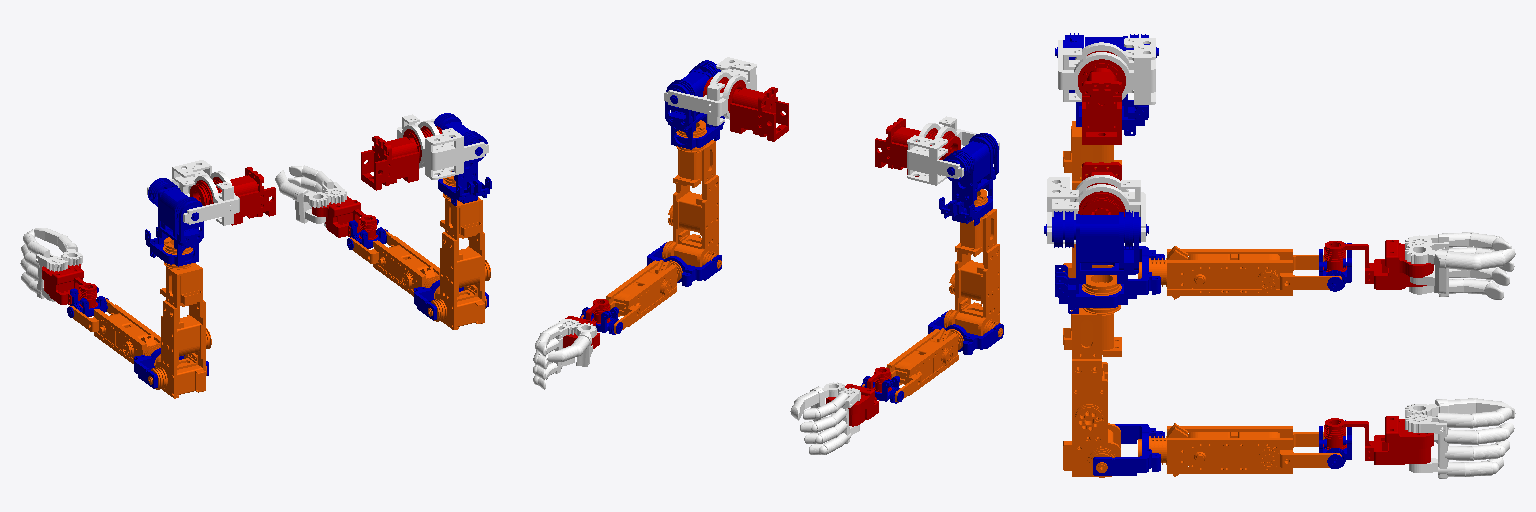
--- Facts derived from the render (not from the file) ---
3 views of the same robot in one strip: view 1: azimuth 30°, elevation 25°; view 2: azimuth 150°, elevation 25°; view 3: azimuth 270°, elevation 25° (orthographic).
Model robotarm with 25 links and 24 joints (18 revolute, 6 fixed), rooted at world, posed every joint at zero.
Visible links, largest first — view 1: left_link4, right_link4, left_link3, right_link1, right_link2, left_link6, right_link6, left_link2, left_link1, right_link3, left_hand2, right_link8 (+8 smaller); view 2: right_link4, left_link4, left_link3, left_link6, right_link6, right_link1, left_link2, right_link3, left_hand2, right_link2, left_link1, right_hand2 (+6 smaller); view 3: right_link4, right_link6, left_link6, right_link3, right_hand2, left_link2, left_link1, left_hand2, right_link8, right_link2, left_link8, left_hand1 (+8 smaller).
Link boxes in pixels (bbox=[...]): left_link4: bbox=[148, 237, 211, 398]; right_link4: bbox=[428, 171, 490, 329]; left_link3: bbox=[145, 178, 203, 266]; right_link1: bbox=[361, 126, 441, 190]; right_link2: bbox=[397, 114, 488, 179]; left_link6: bbox=[69, 298, 160, 365]; right_link6: bbox=[350, 229, 439, 298]; left_link2: bbox=[147, 160, 239, 225]; left_link1: bbox=[190, 167, 275, 225]; right_link3: bbox=[434, 113, 491, 205]; left_hand2: bbox=[20, 229, 67, 301]; right_link8: bbox=[312, 196, 377, 248]; right_link4: bbox=[662, 120, 721, 268]; left_link4: bbox=[944, 189, 1002, 336]; left_link3: bbox=[939, 133, 998, 225]; left_link6: bbox=[862, 328, 963, 402]; right_link6: bbox=[581, 260, 682, 333]; right_link1: bbox=[703, 77, 788, 141]; left_link2: bbox=[907, 116, 999, 185]; right_link3: bbox=[665, 60, 724, 149]; left_hand2: bbox=[800, 388, 860, 454]; right_link2: bbox=[664, 57, 756, 125]; left_link1: bbox=[875, 118, 960, 176]; right_hand2: bbox=[533, 319, 579, 389]; right_link4: bbox=[1063, 275, 1121, 477]; right_link6: bbox=[1138, 423, 1341, 476]; left_link6: bbox=[1138, 246, 1341, 299]; right_link3: bbox=[1044, 210, 1148, 313]; right_hand2: bbox=[1405, 408, 1514, 478]; left_link2: bbox=[1058, 38, 1155, 104]; left_link1: bbox=[1078, 51, 1125, 144]; left_hand2: bbox=[1405, 232, 1514, 299]; right_link8: bbox=[1323, 416, 1433, 464]; right_link2: bbox=[1047, 175, 1145, 243]; left_link8: bbox=[1323, 240, 1433, 289]; left_hand1: bbox=[1405, 243, 1515, 293].
Bounding box of the posed robot: 0.5205 × 0.4845 × 0.3075 m (x, y, z).
Meshes: 13 distinct files referenced, 20 mesh visuals loaded (13 Collada DAE).

URDF robot description (robotarm):
<?xml version="1.0" ?>
<!-- =================================================================================== -->
<!-- |    This document was autogenerated by xacro from robotarm_description.xacro     | -->
<!-- |    EDITING THIS FILE BY HAND IS NOT RECOMMENDED                                 | -->
<!-- =================================================================================== -->
<robot name="robotarm" xmlns:xacro="http://www.ros.org/wiki/xacro">
  <!-- Space btw top of beam and the each joint -->
  <!--xacro:property name="camera_name" value="rgbd" /-->
  <!-- Size of square 'camera' box -->
  <!--xacro:property name="frame_name" value="rgbd_depth" /-->
  <!-- Size of square 'camera' box -->
  <!-- ros_control plugin -->
  <gazebo>
    <plugin filename="libgazebo_ros_control.so" name="gazebo_ros_control">
      <robotNamespace>/bmirobot</robotNamespace>
      <robotSimType>gazebo_ros_control/DefaultRobotHWSim</robotSimType>
    </plugin>
  </gazebo>
  <!-- Link1 -->
  <gazebo reference="link1">
    <material>Gazebo/Orange</material>
  </gazebo>
  <!-- Link2 -->
  <gazebo reference="link2">
    <mu1>0.2</mu1>
    <mu2>0.2</mu2>
    <material>Gazebo/Black</material>
  </gazebo>
  <!-- Link3 -->
  <gazebo reference="link3">
    <mu1>0.2</mu1>
    <mu2>0.2</mu2>
    <material>Gazebo/Orange</material>
  </gazebo>
  <!-- Link4 -->
  <gazebo reference="link4">
    <mu1>0.2</mu1>
    <mu2>0.2</mu2>
    <material>Gazebo/Black</material>
  </gazebo>
  <!-- Link5 -->
  <gazebo reference="link5">
    <mu1>0.2</mu1>
    <mu2>0.2</mu2>
    <material>Gazebo/Orange</material>
  </gazebo>
  <!-- Link6 -->
  <gazebo reference="link6">
    <mu1>0.2</mu1>
    <mu2>0.2</mu2>
    <material>Gazebo/Black</material>
  </gazebo>
  <!-- Link7 -->
  <gazebo reference="link7">
    <mu1>0.2</mu1>
    <mu2>0.2</mu2>
    <material>Gazebo/Orange</material>
  </gazebo>
  <!-- camera -->
  <gazebo reference="camera_link">
    <sensor name="camera1" type="camera">
      <update_rate>5.0</update_rate>
      <camera name="head">
        <horizontal_fov>1.3962634</horizontal_fov>
        <image>
          <width>800</width>
          <height>800</height>
          <format>R8G8B8</format>
        </image>
        <clip>
          <near>0.02</near>
          <far>300</far>
        </clip>
        <noise>
          <type>gaussian</type>
          <!-- Noise is sampled independently per pixel on each frame.
               That pixel's noise value is added to each of its color
               channels, which at that point lie in the range [0,1]. -->
          <mean>0.0</mean>
          <stddev>0.007</stddev>
        </noise>
      </camera>
      <plugin filename="libgazebo_ros_camera.so" name="camera_controller">
        <alwaysOn>true</alwaysOn>
        <updateRate>0.0</updateRate>
        <cameraName>rrbot/camera1</cameraName>
        <imageTopicName>image_raw</imageTopicName>
        <cameraInfoTopicName>camera_info</cameraInfoTopicName>
        <frameName>camera_link</frameName>
        <hackBaseline>0.07</hackBaseline>
        <distortionK1>0.0</distortionK1>
        <distortionK2>0.0</distortionK2>
        <distortionK3>0.0</distortionK3>
        <distortionT1>0.0</distortionT1>
        <distortionT2>0.0</distortionT2>
      </plugin>
    </sensor>
  </gazebo>
  <gazebo reference="rgbd_link">
    <sensor name="rgbd1" type="depth">
      <always_on>1</always_on>
      <update_rate>20.0</update_rate>
      <visualize>false</visualize>
      <camera>
        <horizontal_fov>1.047</horizontal_fov>
        <image>
          <width>640</width>
          <height>480</height>
          <format>B8G8R8</format>
        </image>
        <depth_camera>

            </depth_camera>
        <clip>
          <near>0.1</near>
          <far>4</far>
        </clip>
      </camera>
      <plugin filename="libgazebo_ros_openni_kinect.so" name="rgbd_controller">
        <baseline>0.2</baseline>
        <alwaysOn>true</alwaysOn>
        <updateRate>20.0</updateRate>
        <cameraName>camera</cameraName>
        <imageTopicName>/camera/rgb/image_raw</imageTopicName>
        <cameraInfoTopicName>/camera/rgb/camera_info</cameraInfoTopicName>
        <depthImageTopicName>/camera/depth/image_raw</depthImageTopicName>
        <depthImageInfoTopicName>/camera/depth/camera_info</depthImageInfoTopicName>
        <pointCloudTopicName>/camera/depth/points</pointCloudTopicName>
        <frameName>camera_depth_optical_frame</frameName>
        <pointCloudCutoff>0.5</pointCloudCutoff>
        <distortionK1>0</distortionK1>
        <distortionK2>0</distortionK2>
        <distortionK3>0</distortionK3>
        <distortionT1>0</distortionT1>
        <distortionT2>0</distortionT2>
        <CxPrime>0</CxPrime>
        <Cx>0</Cx>
        <Cy>0</Cy>
        <focalLength>0</focalLength>
        <hackBaseline>0</hackBaseline>
      </plugin>
    </sensor>
  </gazebo>
  <gazebo>
    <plugin filename="libgazebo_grasp_fix.so" name="gazebo_grasp_fix">
      <arm>
        <arm_name>bmirobot</arm_name>
        <palm_link>link8</palm_link>
        <gripper_link>hand_1</gripper_link>
        <gripper_link>hand_4</gripper_link>
      </arm>
      <forces_angle_tolerance>90</forces_angle_tolerance>
      <update_rate>4</update_rate>
      <grip_count_threshold>2</grip_count_threshold>
      <max_grip_count>4</max_grip_count>
      <release_tolerance>0.003</release_tolerance>
      <disable_collisions_on_attach>true</disable_collisions_on_attach>
      <contact_topic>__default_topic__</contact_topic>
    </plugin>
  </gazebo>
  <material name="black">
    <color rgba="0.0 0.0 0.0 1.0"/>
  </material>
  <material name="blue">
    <color rgba="0.0 0.0 0.8 1.0"/>
  </material>
  <material name="green">
    <color rgba="0.0 0.8 0.0 1.0"/>
  </material>
  <material name="grey">
    <color rgba="0.2 0.2 0.2 1.0"/>
  </material>
  <material name="orange">
    <color rgba="1.0 0.423529411765 0.0392156862745 1.0"/>
  </material>
  <material name="brown">
    <color rgba="0.870588235294 0.811764705882 0.764705882353 1.0"/>
  </material>
  <material name="red">
    <color rgba="0.8 0.0 0.0 1.0"/>
  </material>
  <material name="white">
    <color rgba="1.0 1.0 1.0 1.0"/>
  </material>
  <!-- Used for fixing robot to Gazebo 'base_link' -->
  <link name="world"/>
  <joint name="fixed" type="fixed">
    <parent link="world"/>
    <child link="odom_combined"/>
  </joint>
  <link name="odom_combined"/>
  <joint name="virtual_joint" type="fixed">
    <parent link="odom_combined"/>
    <child link="base_link"/>
    <origin rpy="0 0 0" xyz="0 0 0.45"/>
  </joint>
  <link name="base_link"/>
  <joint name="rightvirtual_joint" type="fixed">
    <parent link="base_link"/>
    <child link="right_link1"/>
    <origin rpy="0 0 0" xyz="0.22 0 0"/>
  </joint>
  <joint name="leftvirtual_joint" type="fixed">
    <parent link="base_link"/>
    <child link="left_link1"/>
    <origin rpy="0 0 3.14159265359" xyz="0.03 0 0"/>
  </joint>
  <link name="right_link1">
    <visual>
      <geometry>
        <mesh filename="package://bmirobot_description/modle/stl_V5/baselink.dae"/>
      </geometry>
      <origin rpy="0 0 0" xyz="0 0 0"/>
      <material name="red"/>
    </visual>
    <collision>
      <geometry>
        <mesh filename="package://bmirobot_description/modle/stl_V5/baselink.dae"/>
      </geometry>
      <origin rpy="0 0 0" xyz="0 0 0"/>
    </collision>
    <inertial>
      <origin rpy="0 0 0" xyz="0 0 1"/>
      <mass value="1"/>
      <inertia ixx="1.0" ixy="0.0" ixz="0.0" iyy="1.0" iyz="0.0" izz="1.0"/>
    </inertial>
  </link>
  <link name="right_link2">
    <visual>
      <geometry>
        <mesh filename="package://bmirobot_description/modle/stl_V5/link1.dae"/>
      </geometry>
      <origin rpy="0 0 0" xyz="0 0 0"/>
      <material name="white"/>
    </visual>
    <collision>
      <geometry>
        <mesh filename="package://bmirobot_description/modle/stl_V5/link1.dae"/>
      </geometry>
      <origin rpy="0 0 0" xyz="0 0 0"/>
    </collision>
    <inertial>
      <origin rpy="0 0 0" xyz="0 0 1"/>
      <mass value="1"/>
      <inertia ixx="1.0" ixy="0.0" ixz="0.0" iyy="1.0" iyz="0.0" izz="1.0"/>
    </inertial>
  </link>
  <link name="right_link3">
    <visual>
      <geometry>
        <mesh filename="package://bmirobot_description/modle/stl_V5/link2.dae"/>
      </geometry>
      <origin rpy="0 0 0" xyz="0 0 0"/>
      <material name="blue"/>
    </visual>
    <collision>
      <geometry>
        <mesh filename="package://bmirobot_description/modle/stl_V5/link2.dae"/>
      </geometry>
      <origin rpy="0 0 0" xyz="0 0 0"/>
    </collision>
    <inertial>
      <origin rpy="0 0 0" xyz="0 0 1"/>
      <mass value="1"/>
      <inertia ixx="1.0" ixy="0.0" ixz="0.0" iyy="1.0" iyz="0.0" izz="1.0"/>
    </inertial>
  </link>
  <link name="right_link4">
    <visual>
      <geometry>
        <mesh filename="package://bmirobot_description/modle/stl_V5/link3.dae"/>
      </geometry>
      <origin rpy="0 0 0" xyz="0 0 0"/>
      <material name="orange"/>
    </visual>
    <collision>
      <geometry>
        <mesh filename="package://bmirobot_description/modle/stl_V5/link3.dae"/>
      </geometry>
      <origin rpy="0 0 0" xyz="0 0 0"/>
    </collision>
    <inertial>
      <origin rpy="0 0 0" xyz="0 0 1"/>
      <mass value="1"/>
      <inertia ixx="1.0" ixy="0.0" ixz="0.0" iyy="1.0" iyz="0.0" izz="1.0"/>
    </inertial>
  </link>
  <link name="right_link5">
    <visual>
      <geometry>
        <mesh filename="package://bmirobot_description/modle/stl_V5/link4.dae"/>
      </geometry>
      <origin rpy="0 0 0" xyz="0 0 0"/>
      <material name="blue"/>
    </visual>
    <collision>
      <geometry>
        <mesh filename="package://bmirobot_description/modle/stl_V5/link4.dae"/>
      </geometry>
      <origin rpy="0 0 0" xyz="0 0 0"/>
    </collision>
    <inertial>
      <origin rpy="0 0 0" xyz="0 0 1"/>
      <mass value="1"/>
      <inertia ixx="1.0" ixy="0.0" ixz="0.0" iyy="1.0" iyz="0.0" izz="1.0"/>
    </inertial>
  </link>
  <link name="right_link6">
    <visual>
      <geometry>
        <mesh filename="package://bmirobot_description/modle/stl_V5/link5.dae"/>
      </geometry>
      <origin rpy="0 0 0" xyz="0 0 0"/>
      <material name="orange"/>
    </visual>
    <collision>
      <geometry>
        <mesh filename="package://bmirobot_description/modle/stl_V5/link5.dae"/>
      </geometry>
      <origin rpy="0 0 0" xyz="0 0 0"/>
    </collision>
    <inertial>
      <origin rpy="0 0 0" xyz="0 0 1"/>
      <mass value="1"/>
      <inertia ixx="1.0" ixy="0.0" ixz="0.0" iyy="1.0" iyz="0.0" izz="1.0"/>
    </inertial>
  </link>
  <link name="right_link7">
    <visual>
      <geometry>
        <mesh filename="package://bmirobot_description/modle/stl_V5/link6.dae"/>
      </geometry>
      <origin rpy="0 0 0" xyz="0 0 0"/>
      <material name="blue"/>
    </visual>
    <collision>
      <geometry>
        <mesh filename="package://bmirobot_description/modle/stl_V5/link6.dae"/>
      </geometry>
      <origin rpy="0 0 0" xyz="0 0 0"/>
    </collision>
    <inertial>
      <origin rpy="0 0 0" xyz="0 0 1"/>
      <mass value="1"/>
      <inertia ixx="1.0" ixy="0.0" ixz="0.0" iyy="1.0" iyz="0.0" izz="1.0"/>
    </inertial>
  </link>
  <link name="right_link8">
    <visual>
      <geometry>
        <mesh filename="package://bmirobot_description/modle/stl_V5/link7.dae"/>
      </geometry>
      <origin rpy="0 0 0" xyz="0 0 0"/>
      <material name="red"/>
    </visual>
    <collision>
      <geometry>
        <mesh filename="package://bmirobot_description/modle/stl_V5/link7.dae"/>
      </geometry>
      <origin rpy="0 0 0" xyz="0 0 0"/>
    </collision>
    <inertial>
      <origin rpy="0 0 0" xyz="0 0 1"/>
      <mass value="1"/>
      <inertia ixx="1.0" ixy="0.0" ixz="0.0" iyy="1.0" iyz="0.0" izz="1.0"/>
    </inertial>
  </link>
  <link name="right_hand1">
    <contact>
      <lateral_friction value="10.0"/>
      <rolling_friction value="0.0"/>
      <inertia_scaling value="3.0"/>
      <contact_cfm value="0.0"/>
      <contact_erp value="1.0"/>
    </contact>
    <visual>
      <geometry>
        <mesh filename="package://bmirobot_description/modle/stl_V5/hand-1.dae"/>
      </geometry>
      <origin rpy="0 0 0" xyz="0 0 0"/>
      <material name="white"/>
    </visual>
    <collision>
      <geometry>
        <mesh filename="package://bmirobot_description/modle/stl_V5/hand-1.dae"/>
      </geometry>
      <origin rpy="0 0 0" xyz="0 0 0"/>
    </collision>
    <inertial>
      <origin rpy="0 0 0" xyz="0 0 1"/>
      <mass value="1"/>
      <inertia ixx="1.0" ixy="0.0" ixz="0.0" iyy="1.0" iyz="0.0" izz="1.0"/>
    </inertial>
  </link>
  <link name="right_hand2">
    <contact>
      <lateral_friction value="1.0"/>
      <rolling_friction value="0.0"/>
      <inertia_scaling value="3.0"/>
      <contact_cfm value="0.0"/>
      <contact_erp value="1.0"/>
    </contact>
    <visual>
      <geometry>
        <mesh filename="package://bmirobot_description/modle/stl_V5/hand-2.dae"/>
      </geometry>
      <origin rpy="0 0 0" xyz="0 0 0"/>
      <material name="white"/>
    </visual>
    <collision>
      <geometry>
        <mesh filename="package://bmirobot_description/modle/stl_V5/hand-2.dae"/>
      </geometry>
      <origin rpy="0 0 0" xyz="0 0 0"/>
    </collision>
    <inertial>
      <origin rpy="0 0 0" xyz="0 0 1"/>
      <mass value="1"/>
      <inertia ixx="1.0" ixy="0.0" ixz="0.0" iyy="1.0" iyz="0.0" izz="1.0"/>
    </inertial>
  </link>
  <joint name="right_joint1" type="revolute">
    <limit effort="1000.0" lower="-1.57079632679" upper="3.14159265359" velocity="9.42477796077"/>
    <origin rpy="0 0 0" xyz="0.081 0 0"/>
    <axis xyz="1 0 0"/>
    <parent link="right_link1"/>
    <child link="right_link2"/>
    <dynamics damping="0.7"/>
  </joint>
  <joint name="right_joint2" type="revolute">
    <limit effort="1000.0" lower="-3.14159265359" upper="0.174532925199" velocity="9.42477796077"/>
    <origin rpy="0 1.57079632679 0" xyz="0.040 0 0"/>
    <axis xyz="0 1 0"/>
    <parent link="right_link2"/>
    <child link="right_link3"/>
    <dynamics damping="0.7"/>
  </joint>
  <joint name="right_joint3" type="revolute">
    <limit effort="1000.0" lower="-1.57079632679" upper="1.57079632679" velocity="9.42477796077"/>
    <origin rpy="-1.57079632679 0 0" xyz="0.0555 0 0"/>
    <axis xyz="1 0 0"/>
    <parent link="right_link3"/>
    <child link="right_link4"/>
    <dynamics damping="0.7"/>
  </joint>
  <joint name="right_joint4" type="revolute">
    <limit effort="1000.0" lower="-0.872664625997" upper="2.09439510239" velocity="9.42477796077"/>
    <origin rpy="0 -1.57079632679 0" xyz="0.1945 0 0"/>
    <axis xyz="0 1 0"/>
    <parent link="right_link4"/>
    <child link="right_link5"/>
    <dynamics damping="0.7"/>
  </joint>
  <joint name="right_joint5" type="revolute">
    <limit effort="1000.0" lower="-3.14159265359" upper="1.74532925199" velocity="9.42477796077"/>
    <origin rpy="1.57079632679 0 0" xyz="0.037 0 0.000"/>
    <axis xyz="1 0 0"/>
    <parent link="right_link5"/>
    <child link="right_link6"/>
    <dynamics damping="0.7"/>
  </joint>
  <joint name="right_joint6" type="revolute">
    <limit effort="1000.0" lower="-1.2217304764" upper="1.57079632679" velocity="9.42477796077"/>
    <origin rpy="-1.57079632679 0 0" xyz="0.203 0 0"/>
    <axis xyz="0 1 0"/>
    <parent link="right_link6"/>
    <child link="right_link7"/>
    <dynamics damping="0.7"/>
  </joint>
  <joint name="right_joint7" type="revolute">
    <limit effort="1000.0" lower="-1.57079632679" upper="1.57079632679" velocity="9.42477796077"/>
    <origin rpy="0.0 0 0" xyz="0.0 0 0"/>
    <axis xyz="0 0 1"/>
    <parent link="right_link7"/>
    <child link="right_link8"/>
    <dynamics damping="0.7"/>
  </joint>
  <joint name="right_hand_joint1" type="revolute">
    <limit effort="1000.0" lower="-1.57079632679" upper="1.57079632679" velocity="9.42477796077"/>
    <origin rpy="0 0 0" xyz="0.0865 0.0265 0.0240"/>
    <axis xyz="0 0 1"/>
    <parent link="right_link8"/>
    <child link="right_hand1"/>
    <dynamics damping="0.7"/>
  </joint>
  <joint name="right_hand_joint2" type="revolute">
    <limit effort="1000.0" lower="-1.57079632679" upper="1.57079632679" velocity="9.42477796077"/>
    <origin rpy="0 0 0" xyz="0.0865 0 0.024"/>
    <axis xyz="0 0 1"/>
    <parent link="right_link8"/>
    <child link="right_hand2"/>
    <dynamics damping="0.7"/>
  </joint>
  <!-- Grasping frame -->
  <link name="rightgrasping_frame"/>
  <joint name="rightgrasping_frame_joint" type="fixed">
    <parent link="right_link8"/>
    <child link="rightgrasping_frame"/>
    <origin rpy="0 0 0" xyz="0.1565 0.0265 0.0240"/>
  </joint>
  <!-- ///////////////////   Transmissions for ROS Control /////////////////// -->
  <transmission name="right_tran1">
    <type>transmission_interface/SimpleTransmission</type>
    <joint name="right_joint1">
      <hardwareInterface>hardware_interface/PositionJointInterface</hardwareInterface>
    </joint>
    <actuator name="right_motor1">
      <hardwareInterface>hardware_interface/PositionJointInterface</hardwareInterface>
      <mechanicalReduction>1</mechanicalReduction>
    </actuator>
  </transmission>
  <transmission name="right_tran2">
    <type>transmission_interface/SimpleTransmission</type>
    <joint name="right_joint2">
      <hardwareInterface>hardware_interface/PositionJointInterface</hardwareInterface>
    </joint>
    <actuator name="right_motor2">
      <hardwareInterface>hardware_interface/PositionJointInterface</hardwareInterface>
      <mechanicalReduction>1</mechanicalReduction>
    </actuator>
  </transmission>
  <transmission name="right_tran3">
    <type>transmission_interface/SimpleTransmission</type>
    <joint name="right_joint3">
      <hardwareInterface>hardware_interface/PositionJointInterface</hardwareInterface>
    </joint>
    <actuator name="right_motor3">
      <hardwareInterface>hardware_interface/PositionJointInterface</hardwareInterface>
      <mechanicalReduction>1</mechanicalReduction>
    </actuator>
  </transmission>
  <transmission name="right_tran4">
    <type>transmission_interface/SimpleTransmission</type>
    <joint name="right_joint4">
      <hardwareInterface>hardware_interface/PositionJointInterface</hardwareInterface>
    </joint>
    <actuator name="right_motor4">
      <hardwareInterface>hardware_interface/PositionJointInterface</hardwareInterface>
      <mechanicalReduction>1</mechanicalReduction>
    </actuator>
  </transmission>
  <transmission name="right_tran5">
    <type>transmission_interface/SimpleTransmission</type>
    <joint name="right_joint5">
      <hardwareInterface>hardware_interface/PositionJointInterface</hardwareInterface>
    </joint>
    <actuator name="right_motor5">
      <hardwareInterface>hardware_interface/PositionJointInterface</hardwareInterface>
      <mechanicalReduction>1</mechanicalReduction>
    </actuator>
  </transmission>
  <transmission name="right_tran6">
    <type>transmission_interface/SimpleTransmission</type>
    <joint name="right_joint6">
      <hardwareInterface>hardware_interface/PositionJointInterface</hardwareInterface>
    </joint>
    <actuator name="right_motor6">
      <hardwareInterface>hardware_interface/PositionJointInterface</hardwareInterface>
      <mechanicalReduction>1</mechanicalReduction>
    </actuator>
  </transmission>
  <transmission name="right_tran7">
    <type>transmission_interface/SimpleTransmission</type>
    <joint name="right_joint7">
      <hardwareInterface>hardware_interface/PositionJointInterface</hardwareInterface>
    </joint>
    <actuator name="right_motor7">
      <hardwareInterface>hardware_interface/PositionJointInterface</hardwareInterface>
      <mechanicalReduction>1</mechanicalReduction>
    </actuator>
  </transmission>
  <transmission name="right_tran8">
    <type>transmission_interface/SimpleTransmission</type>
    <joint name="right_hand_joint1">
      <hardwareInterface>hardware_interface/PositionJointInterface</hardwareInterface>
    </joint>
    <actuator name="right_motor8">
      <hardwareInterface>hardware_interface/PositionJointInterface</hardwareInterface>
      <mechanicalReduction>1</mechanicalReduction>
    </actuator>
  </transmission>
  <transmission name="right_tran9">
    <type>transmission_interface/SimpleTransmission</type>
    <joint name="right_hand_joint2">
      <hardwareInterface>hardware_interface/PositionJointInterface</hardwareInterface>
    </joint>
    <actuator name="right_motor9">
      <hardwareInterface>hardware_interface/PositionJointInterface</hardwareInterface>
      <mechanicalReduction>1</mechanicalReduction>
    </actuator>
  </transmission>
  <link name="left_link1">
    <visual>
      <geometry>
        <mesh filename="package://bmirobot_description/modle/stl_V5/baselink.dae"/>
      </geometry>
      <origin rpy="0 0 0" xyz="0 0 0"/>
      <material name="red"/>
    </visual>
    <collision>
      <geometry>
        <mesh filename="package://bmirobot_description/modle/stl_V5/baselink.dae"/>
      </geometry>
      <origin rpy="0 0 0" xyz="0 0 0"/>
    </collision>
    <inertial>
      <origin rpy="0 0 0" xyz="0 0 1"/>
      <mass value="1"/>
      <inertia ixx="1.0" ixy="0.0" ixz="0.0" iyy="1.0" iyz="0.0" izz="1.0"/>
    </inertial>
  </link>
  <link name="left_link2">
    <visual>
      <geometry>
        <mesh filename="package://bmirobot_description/modle/stl_V5/link1.dae"/>
      </geometry>
      <origin rpy="0 0 0" xyz="0 0 0"/>
      <material name="white"/>
    </visual>
    <collision>
      <geometry>
        <mesh filename="package://bmirobot_description/modle/stl_V5/link1.dae"/>
      </geometry>
      <origin rpy="0 0 0" xyz="0 0 0"/>
    </collision>
    <inertial>
      <origin rpy="0 0 0" xyz="0 0 1"/>
      <mass value="1"/>
      <inertia ixx="1.0" ixy="0.0" ixz="0.0" iyy="1.0" iyz="0.0" izz="1.0"/>
    </inertial>
  </link>
  <link name="left_link3">
    <visual>
      <geometry>
        <mesh filename="package://bmirobot_description/modle/stl_V5/link2.dae"/>
      </geometry>
      <origin rpy="0 0 0" xyz="0 0 0"/>
      <material name="blue"/>
    </visual>
    <collision>
      <geometry>
        <mesh filename="package://bmirobot_description/modle/stl_V5/link2.dae"/>
      </geometry>
      <origin rpy="0 0 0" xyz="0 0 0"/>
    </collision>
    <inertial>
      <origin rpy="0 0 0" xyz="0 0 1"/>
      <mass value="1"/>
      <inertia ixx="1.0" ixy="0.0" ixz="0.0" iyy="1.0" iyz="0.0" izz="1.0"/>
    </inertial>
  </link>
  <link name="left_link4">
    <visual>
      <geometry>
        <mesh filename="package://bmirobot_description/modle/stl_V5/link3.dae"/>
      </geometry>
      <origin rpy="0 0 0" xyz="0 0 0"/>
      <material name="orange"/>
    </visual>
    <collision>
      <geometry>
        <mesh filename="package://bmirobot_description/modle/stl_V5/link3.dae"/>
      </geometry>
      <origin rpy="0 0 0" xyz="0 0 0"/>
    </collision>
    <inertial>
      <origin rpy="0 0 0" xyz="0 0 1"/>
      <mass value="1"/>
      <inertia ixx="1.0" ixy="0.0" ixz="0.0" iyy="1.0" iyz="0.0" izz="1.0"/>
    </inertial>
  </link>
  <link name="left_link5">
    <visual>
      <geometry>
        <mesh filename="package://bmirobot_description/modle/stl_V5/link4.dae"/>
      </geometry>
      <origin rpy="0 0 0" xyz="0 0 0"/>
      <material name="blue"/>
    </visual>
    <collision>
      <geometry>
        <mesh filename="package://bmirobot_description/modle/stl_V5/link4.dae"/>
      </geometry>
      <origin rpy="0 0 0" xyz="0 0 0"/>
    </collision>
    <inertial>
      <origin rpy="0 0 0" xyz="0 0 1"/>
      <mass value="1"/>
      <inertia ixx="1.0" ixy="0.0" ixz="0.0" iyy="1.0" iyz="0.0" izz="1.0"/>
    </inertial>
  </link>
  <link name="left_link6">
    <visual>
      <geometry>
        <mesh filename="package://bmirobot_description/modle/stl_V5/link5.dae"/>
      </geometry>
      <origin rpy="0 0 0" xyz="0 0 0"/>
      <material name="orange"/>
    </visual>
    <collision>
      <geometry>
        <mesh filename="package://bmirobot_description/modle/stl_V5/link5.dae"/>
      </geometry>
      <origin rpy="0 0 0" xyz="0 0 0"/>
    </collision>
    <inertial>
      <origin rpy="0 0 0" xyz="0 0 1"/>
      <mass value="1"/>
      <inertia ixx="1.0" ixy="0.0" ixz="0.0" iyy="1.0" iyz="0.0" izz="1.0"/>
    </inertial>
  </link>
  <link name="left_link7">
    <visual>
      <geometry>
        <mesh filename="package://bmirobot_description/modle/stl_V5/link6.dae"/>
      </geometry>
      <origin rpy="0 0 0" xyz="0 0 0"/>
      <material name="blue"/>
    </visual>
    <collision>
      <geometry>
        <mesh filename="package://bmirobot_description/modle/stl_V5/link6.dae"/>
      </geometry>
      <origin rpy="0 0 0" xyz="0 0 0"/>
    </collision>
    <inertial>
      <origin rpy="0 0 0" xyz="0 0 1"/>
      <mass value="1"/>
      <inertia ixx="1.0" ixy="0.0" ixz="0.0" iyy="1.0" iyz="0.0" izz="1.0"/>
    </inertial>
  </link>
  <link name="left_link8">
    <visual>
      <geometry>
        <mesh filename="package://bmirobot_description/modle/stl_V5/left-link7.dae"/>
      </geometry>
      <origin rpy="0 0 0" xyz="0 0 0"/>
      <material name="red"/>
    </visual>
    <collision>
      <geometry>
        <mesh filename="package://bmirobot_description/modle/stl_V5/left-link7.dae"/>
      </geometry>
      <origin rpy="0 0 0" xyz="0 0 0"/>
    </collision>
    <inertial>
      <origin rpy="0 0 0" xyz="0 0 1"/>
      <mass value="1"/>
      <inertia ixx="1.0" ixy="0.0" ixz="0.0" iyy="1.0" iyz="0.0" izz="1.0"/>
    </inertial>
  </link>
  <link name="left_hand1">
    <contact>
      <lateral_friction value="10.0"/>
      <rolling_friction value="0.0"/>
      <inertia_scaling value="3.0"/>
      <contact_cfm value="0.0"/>
      <contact_erp value="1.0"/>
    </contact>
    <visual>
      <geometry>
        <mesh filename="package://bmirobot_description/modle/stl_V5/left-hand-1.dae"/>
      </geometry>
      <origin rpy="0 0 0" xyz="0 0 0"/>
      <material name="white"/>
    </visual>
    <collision>
      <geometry>
        <mesh filename="package://bmirobot_description/modle/stl_V5/left-hand-1.dae"/>
      </geometry>
      <origin rpy="0 0 0" xyz="0 0 0"/>
    </collision>
    <inertial>
      <origin rpy="0 0 0" xyz="0 0 1"/>
      <mass value="1"/>
      <inertia ixx="1.0" ixy="0.0" ixz="0.0" iyy="1.0" iyz="0.0" izz="1.0"/>
    </inertial>
  </link>
  <link name="left_hand2">
    <contact>
      <lateral_friction value="10.0"/>
      <rolling_friction value="0.0"/>
      <inertia_scaling value="3.0"/>
      <contact_cfm value="0.0"/>
      <contact_erp value="1.0"/>
    </contact>
    <visual>
      <geometry>
        <mesh filename="package://bmirobot_description/modle/stl_V5/left-hand-2.dae"/>
      </geometry>
      <origin rpy="0 0 0" xyz="0 0 0"/>
      <material name="white"/>
    </visual>
    <collision>
      <geometry>
        <mesh filename="package://bmirobot_description/modle/stl_V5/left-hand-2.dae"/>
      </geometry>
      <origin rpy="0 0 0" xyz="0 0 0"/>
    </collision>
    <inertial>
      <origin rpy="0 0 0" xyz="0 0 1"/>
      <mass value="1"/>
      <inertia ixx="1.0" ixy="0.0" ixz="0.0" iyy="1.0" iyz="0.0" izz="1.0"/>
    </inertial>
  </link>
  <joint name="left_joint1" type="revolute">
    <limit effort="1000.0" lower="-1.57079632679" upper="3.14159265359" velocity="9.42477796077"/>
    <origin rpy="0 0 0" xyz="0.081 0 0"/>
    <axis xyz="1 0 0"/>
    <parent link="left_link1"/>
    <child link="left_link2"/>
    <dynamics damping="0.7"/>
  </joint>
  <joint name="left_joint2" type="revolute">
    <limit effort="1000.0" lower="-3.14159265359" upper="0.174532925199" velocity="9.42477796077"/>
    <origin rpy="0 1.57079632679 0" xyz="0.040 0 0"/>
    <axis xyz="0 1 0"/>
    <parent link="left_link2"/>
    <child link="left_link3"/>
    <dynamics damping="0.7"/>
  </joint>
  <joint name="left_joint3" type="revolute">
    <limit effort="1000.0" lower="-1.57079632679" upper="1.57079632679" velocity="9.42477796077"/>
    <origin rpy="1.57079632679 0 0" xyz="0.0555 0 0"/>
    <axis xyz="1 0 0"/>
    <parent link="left_link3"/>
    <child link="left_link4"/>
    <dynamics damping="0.7"/>
  </joint>
  <joint name="left_joint4" type="revolute">
    <limit effort="1000.0" lower="-0.872664625997" upper="2.09439510239" velocity="9.42477796077"/>
    <origin rpy="0 -1.57079632679 0" xyz="0.1945 0 0"/>
    <axis xyz="0 1 0"/>
    <parent link="left_link4"/>
    <child link="left_link5"/>
    <dynamics damping="0.7"/>
  </joint>
  <joint name="left_joint5" type="revolute">
    <limit effort="1000.0" lower="-3.14159265359" upper="1.74532925199" velocity="9.42477796077"/>
    <origin rpy="1.57079632679 0 0" xyz="0.037 0 0.000"/>
    <axis xyz="1 0 0"/>
    <parent link="left_link5"/>
    <child link="left_link6"/>
    <dynamics damping="0.7"/>
  </joint>
  <joint name="left_joint6" type="revolute">
    <limit effort="1000.0" lower="-1.2217304764" upper="1.57079632679" velocity="9.42477796077"/>
    <origin rpy="-1.57079632679 0 0" xyz="0.203 0 0"/>
    <axis xyz="0 1 0"/>
    <parent link="left_link6"/>
    <child link="left_link7"/>
    <dynamics damping="0.7"/>
  </joint>
  <joint name="left_joint7" type="revolute">
    <limit effort="1000.0" lower="-1.57079632679" upper="1.57079632679" velocity="9.42477796077"/>
    <origin rpy="1.57079632679 0 0" xyz="0.0 0 0"/>
    <axis xyz="0 0 1"/>
    <parent link="left_link7"/>
    <child link="left_link8"/>
    <dynamics damping="0.7"/>
  </joint>
  <joint name="left_hand_joint1" type="revolute">
    <limit effort="1000.0" lower="-1.74532925199" upper="1.74532925199" velocity="9.42477796077"/>
    <origin rpy="0 0 0" xyz="0.0865 0.0265 0.0240"/>
    <axis xyz="0 1 0"/>
    <parent link="left_link8"/>
    <child link="left_hand1"/>
    <dynamics damping="0.7"/>
  </joint>
  <joint name="left_hand_joint2" type="revolute">
    <limit effort="1000.0" lower="-1.74532925199" upper="1.74532925199" velocity="9.42477796077"/>
    <origin rpy="0 0 0" xyz="0.0865 0.024 0"/>
    <axis xyz="0 1 0"/>
    <parent link="left_link8"/>
    <child link="left_hand2"/>
    <dynamics damping="0.7"/>
  </joint>
  <!-- Grasping frame -->
  <link name="leftgrasping_frame"/>
  <joint name="leftgrasping_frame_joint" type="fixed">
    <parent link="left_link8"/>
    <child link="leftgrasping_frame"/>
    <origin rpy="0 0 0" xyz="0.1565 0.0265 0.0240"/>
  </joint>
  <!-- ///////////////////   Transmissions for ROS Control /////////////////// -->
  <transmission name="left_tran1">
    <type>transmission_interface/SimpleTransmission</type>
    <joint name="left_joint1">
      <hardwareInterface>hardware_interface/PositionJointInterface</hardwareInterface>
    </joint>
    <actuator name="left_motor1">
      <hardwareInterface>hardware_interface/PositionJointInterface</hardwareInterface>
      <mechanicalReduction>1</mechanicalReduction>
    </actuator>
  </transmission>
  <transmission name="left_tran2">
    <type>transmission_interface/SimpleTransmission</type>
    <joint name="left_joint2">
      <hardwareInterface>hardware_interface/PositionJointInterface</hardwareInterface>
    </joint>
    <actuator name="left_motor2">
      <hardwareInterface>hardware_interface/PositionJointInterface</hardwareInterface>
      <mechanicalReduction>1</mechanicalReduction>
    </actuator>
  </transmission>
  <transmission name="left_tran3">
    <type>transmission_interface/SimpleTransmission</type>
    <joint name="left_joint3">
      <hardwareInterface>hardware_interface/PositionJointInterface</hardwareInterface>
    </joint>
    <actuator name="left_motor3">
      <hardwareInterface>hardware_interface/PositionJointInterface</hardwareInterface>
      <mechanicalReduction>1</mechanicalReduction>
    </actuator>
  </transmission>
  <transmission name="left_tran4">
    <type>transmission_interface/SimpleTransmission</type>
    <joint name="left_joint4">
      <hardwareInterface>hardware_interface/PositionJointInterface</hardwareInterface>
    </joint>
    <actuator name="left_motor4">
      <hardwareInterface>hardware_interface/PositionJointInterface</hardwareInterface>
      <mechanicalReduction>1</mechanicalReduction>
    </actuator>
  </transmission>
  <transmission name="left_tran5">
    <type>transmission_interface/SimpleTransmission</type>
    <joint name="left_joint5">
      <hardwareInterface>hardware_interface/PositionJointInterface</hardwareInterface>
    </joint>
    <actuator name="left_motor5">
      <hardwareInterface>hardware_interface/PositionJointInterface</hardwareInterface>
      <mechanicalReduction>1</mechanicalReduction>
    </actuator>
  </transmission>
  <transmission name="left_tran6">
    <type>transmission_interface/SimpleTransmission</type>
    <joint name="left_joint6">
      <hardwareInterface>hardware_interface/PositionJointInterface</hardwareInterface>
    </joint>
    <actuator name="left_motor6">
      <hardwareInterface>hardware_interface/PositionJointInterface</hardwareInterface>
      <mechanicalReduction>1</mechanicalReduction>
    </actuator>
  </transmission>
  <transmission name="left_tran7">
    <type>transmission_interface/SimpleTransmission</type>
    <joint name="left_joint7">
      <hardwareInterface>hardware_interface/PositionJointInterface</hardwareInterface>
    </joint>
    <actuator name="left_motor7">
      <hardwareInterface>hardware_interface/PositionJointInterface</hardwareInterface>
      <mechanicalReduction>1</mechanicalReduction>
    </actuator>
  </transmission>
  <transmission name="left_tran8">
    <type>transmission_interface/SimpleTransmission</type>
    <joint name="left_hand_joint1">
      <hardwareInterface>hardware_interface/PositionJointInterface</hardwareInterface>
    </joint>
    <actuator name="left_motor8">
      <hardwareInterface>hardware_interface/PositionJointInterface</hardwareInterface>
      <mechanicalReduction>1</mechanicalReduction>
    </actuator>
  </transmission>
  <transmission name="left_tran9">
    <type>transmission_interface/SimpleTransmission</type>
    <joint name="left_hand_joint2">
      <hardwareInterface>hardware_interface/PositionJointInterface</hardwareInterface>
    </joint>
    <actuator name="left_motor9">
      <hardwareInterface>hardware_interface/PositionJointInterface</hardwareInterface>
      <mechanicalReduction>1</mechanicalReduction>
    </actuator>
  </transmission>
  <!--
    <plugin name="gazebo_ros_power_monitor_controller" filename="libgazebo_ros_power_monitor.so">
      <alwaysOn>true</alwaysOn>
      <updateRate>1.0</updateRate>
      <timeout>5</timeout>
      <powerStateTopic>power_state</powerStateTopic>
      <powerStateRate>10.0</powerStateRate>
      <fullChargeCapacity>87.78</fullChargeCapacity>     
      <dischargeRate>-474</dischargeRate>
      <chargeRate>525</chargeRate>
      <dischargeVoltage>15.52</dischargeVoltage>
      <chargeVoltage>16.41</chargeVoltage>
    </plugin>
-->
</robot>
